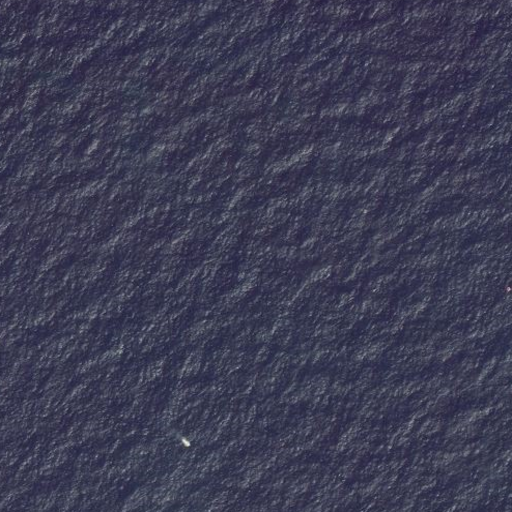ship: (180, 435, 191, 449)
